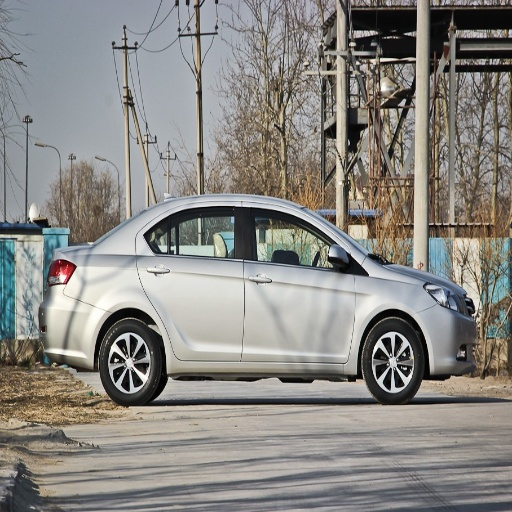back_right_door: (138, 205, 245, 359)
front_right_door: (242, 207, 356, 360)
